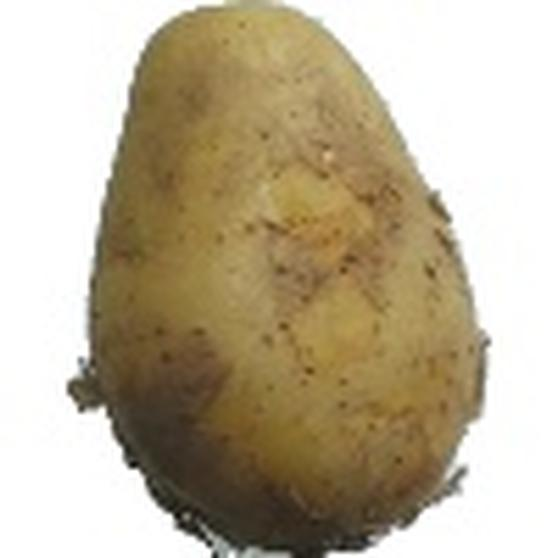potato: (87, 5, 517, 553)
